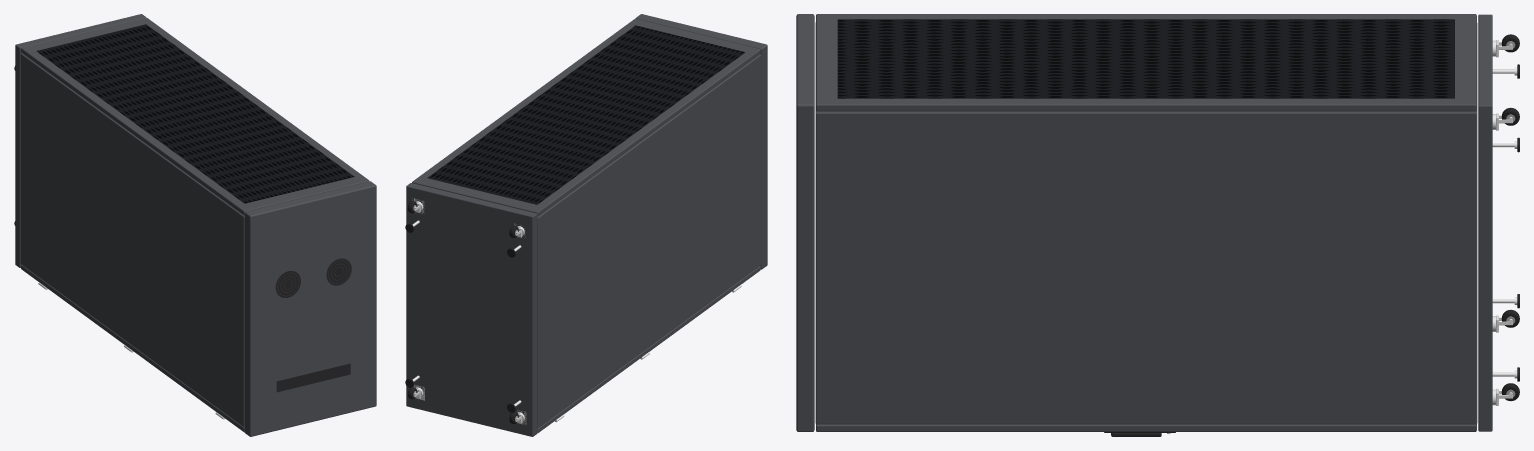
The model's file is AICOR_Lab__OperatorArea__OP_TwinRack.glb.
The picture shows the model from 3 angles, left to right: view 1: azimuth 30°, elevation 25°; view 2: azimuth 150°, elevation 25°; view 3: azimuth 270°, elevation 25°; orthographic projection. The views are drawn at different scales.
Visible parts, largest first — view 1: /World/AICOR_Lab/OperatorArea/OP_TwinRack/Visual/PowderAnthr, /World/AICOR_Lab/OperatorArea/OP_TwinRack/Visual/Decal001, /World/AICOR_Lab/OperatorArea/OP_TwinRack/Visual/PlasticBlac; view 2: /World/AICOR_Lab/OperatorArea/OP_TwinRack/Visual/PowderAnthr, /World/AICOR_Lab/OperatorArea/OP_TwinRack/Visual/Decal001, /World/AICOR_Lab/OperatorArea/OP_TwinRack/Visual/Chrome, /World/AICOR_Lab/OperatorArea/OP_TwinRack/Visual/RubberBlack; view 3: /World/AICOR_Lab/OperatorArea/OP_TwinRack/Visual/PowderAnthr, /World/AICOR_Lab/OperatorArea/OP_TwinRack/Visual/Decal001, /World/AICOR_Lab/OperatorArea/OP_TwinRack/Visual/Chrome, /World/AICOR_Lab/OperatorArea/OP_TwinRack/Visual/RubberBlack.
Part boxes in pixels (x1=…): /World/AICOR_Lab/OperatorArea/OP_TwinRack/Visual/PowderAnthr: x1=15, y1=14, x2=376, y2=436; /World/AICOR_Lab/OperatorArea/OP_TwinRack/Visual/Decal001: x1=36, y1=24, x2=354, y2=203; /World/AICOR_Lab/OperatorArea/OP_TwinRack/Visual/PlasticBlac: x1=275, y1=258, x2=351, y2=392; /World/AICOR_Lab/OperatorArea/OP_TwinRack/Visual/PowderAnthr: x1=406, y1=14, x2=767, y2=436; /World/AICOR_Lab/OperatorArea/OP_TwinRack/Visual/Decal001: x1=427, y1=25, x2=745, y2=204; /World/AICOR_Lab/OperatorArea/OP_TwinRack/Visual/Chrome: x1=412, y1=198, x2=741, y2=425; /World/AICOR_Lab/OperatorArea/OP_TwinRack/Visual/RubberBlack: x1=405, y1=201, x2=518, y2=424; /World/AICOR_Lab/OperatorArea/OP_TwinRack/Visual/PowderAnthr: x1=796, y1=14, x2=1492, y2=431; /World/AICOR_Lab/OperatorArea/OP_TwinRack/Visual/Decal001: x1=837, y1=19, x2=1454, y2=98; /World/AICOR_Lab/OperatorArea/OP_TwinRack/Visual/Chrome: x1=1167, y1=40, x2=1517, y2=433; /World/AICOR_Lab/OperatorArea/OP_TwinRack/Visual/RubberBlack: x1=1501, y1=34, x2=1519, y2=401.
Size of the model in its own units: 0.602 by 1.02 by 2.
Materials: 19 (4 with a texture image).
